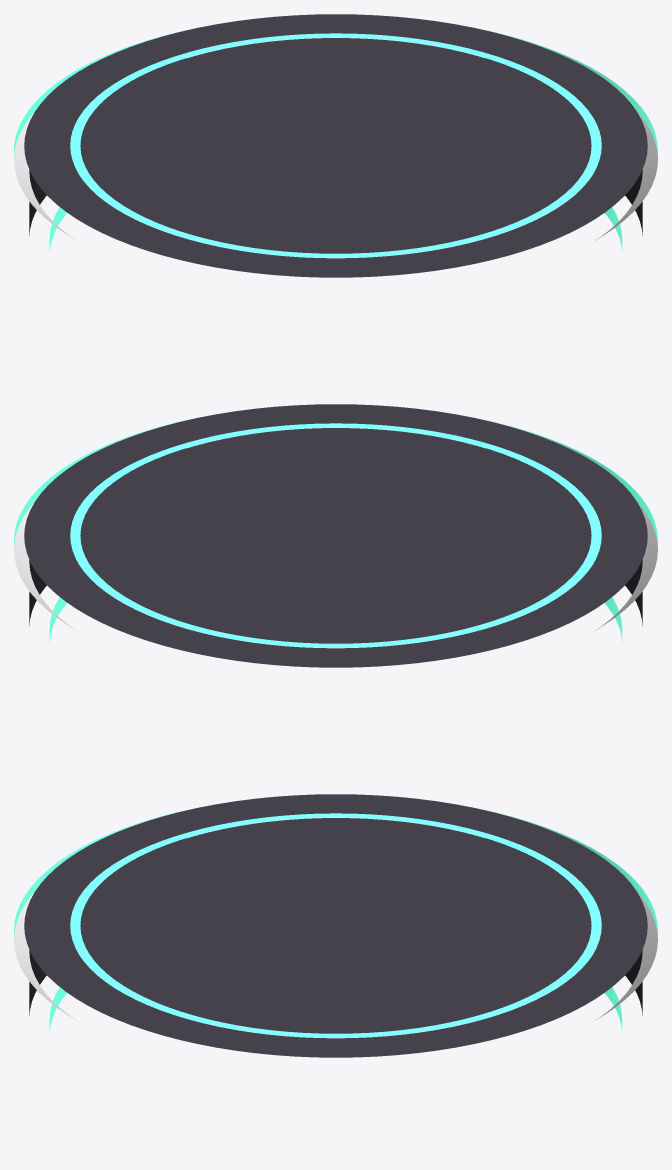
File: podium_onyx.glb
3 views of the same model, one above another, from view 1: azimuth 30°, elevation 25°; view 2: azimuth 150°, elevation 25°; view 3: azimuth 270°, elevation 25° (orthographic).
Visible parts, largest first — view 1: p8, p6, p7, p3, p4, p2; view 2: p8, p6, p7, p3, p4, p2; view 3: p8, p6, p7, p3, p4, p2.
Part boxes in pixels (box(x1,y1,x2,y2)): p8: box(80, 38, 591, 253); p6: box(24, 14, 647, 277); p7: box(70, 33, 601, 257); p3: box(14, 37, 657, 240); p4: box(14, 24, 657, 157); p2: box(29, 58, 642, 235); p8: box(80, 428, 591, 643); p6: box(24, 404, 647, 667); p7: box(70, 423, 601, 647); p3: box(14, 427, 657, 630); p4: box(14, 414, 657, 547); p2: box(29, 448, 642, 625); p8: box(80, 818, 591, 1033); p6: box(24, 794, 647, 1057); p7: box(70, 813, 601, 1037); p3: box(14, 817, 657, 1020); p4: box(14, 804, 657, 937); p2: box(29, 838, 642, 1015).
Size of the model in its own units: 2.52 by 0.471 by 2.52.
